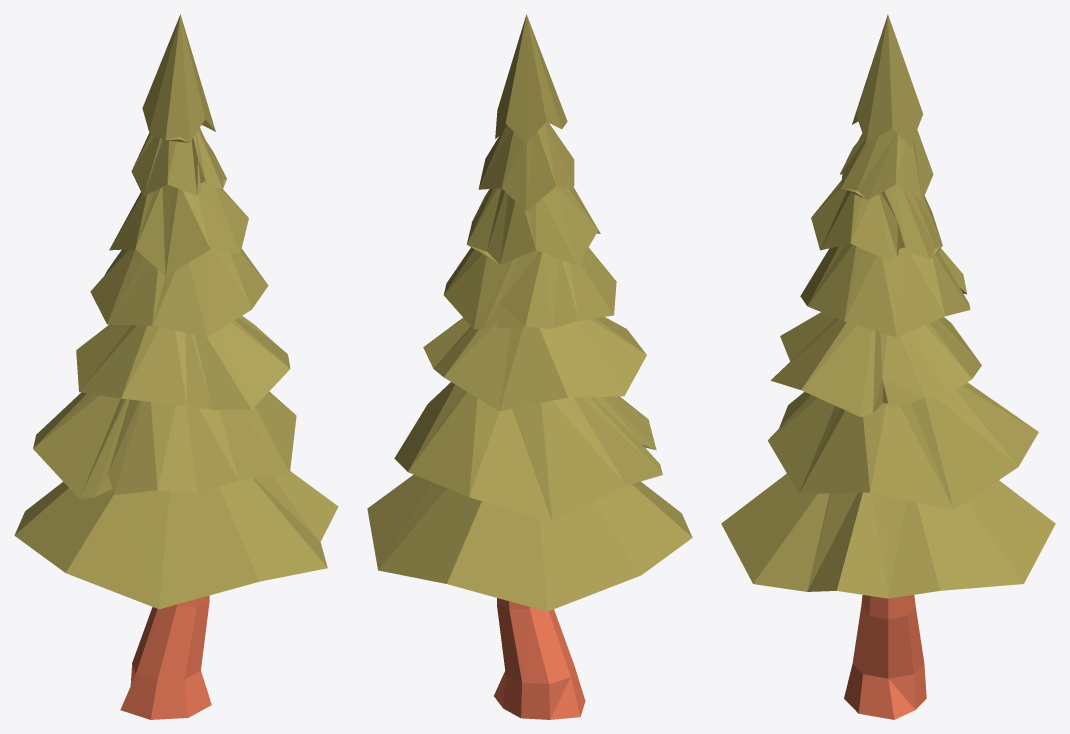
File: tree1.fbx
The picture shows the model from 3 angles, left to right: view 1: azimuth 30°, elevation 25°; view 2: azimuth 150°, elevation 25°; view 3: azimuth 270°, elevation 25°; orthographic projection.
Parts seen in each view (by area): view 1: Tree1; view 2: Tree1; view 3: Tree1.
Part boxes in pixels (x1,y1,x2,y2): Tree1: (14, 14, 338, 719); Tree1: (367, 14, 692, 719); Tree1: (721, 14, 1055, 719).
Size of the model in its own units: 32.84 by 78.7 by 34.53.
